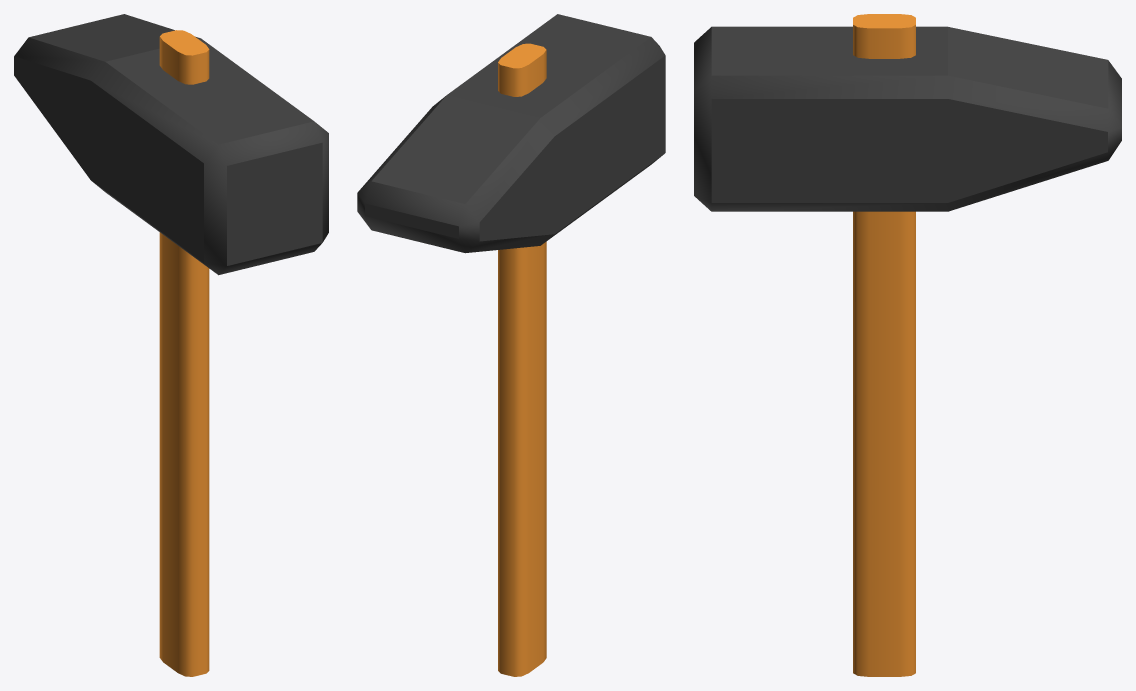
File: Nails_Hammer.fbx
3 renders of one model, left to right at view 1: azimuth 30°, elevation 25°; view 2: azimuth 150°, elevation 25°; view 3: azimuth 270°, elevation 25°, orthographic. The views are drawn at different scales.
Parts seen in each view (by area): view 1: Nails_Hammer; view 2: Nails_Hammer; view 3: Nails_Hammer.
Part boxes in pixels (bbox=[...]): Nails_Hammer: bbox=[14, 14, 328, 676]; Nails_Hammer: bbox=[357, 14, 665, 676]; Nails_Hammer: bbox=[694, 14, 1121, 676].
Size of the model in its own units: 0.4601 by 2.19 by 1.31.
